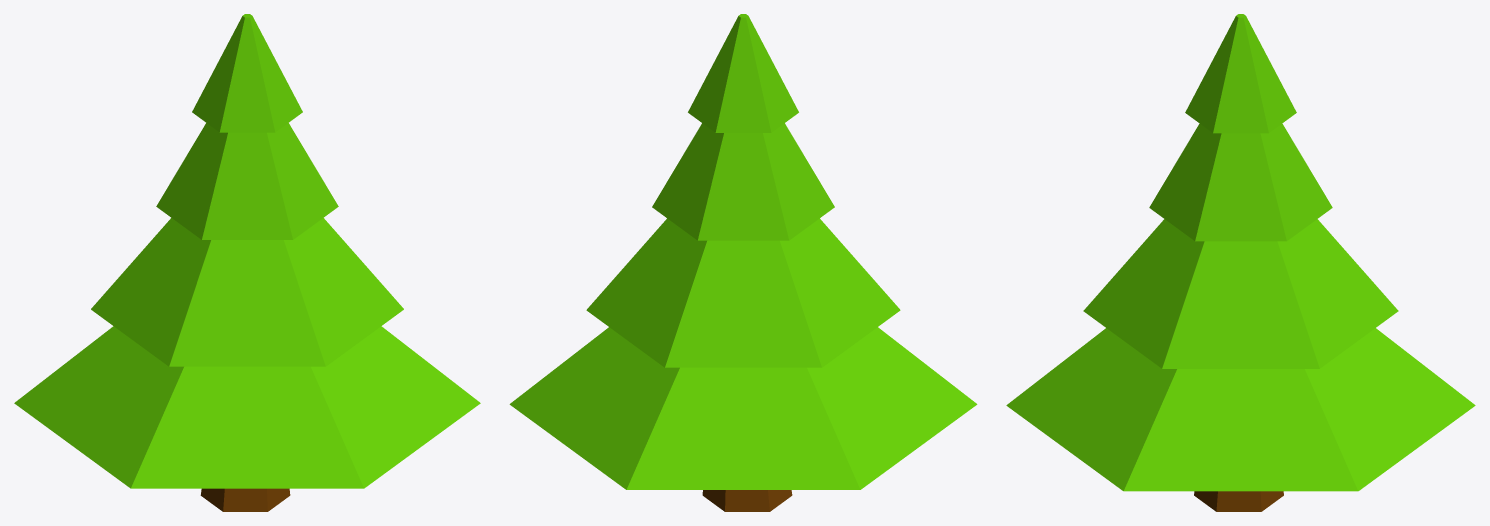
Rendered from Pinetree.fbx.
The picture shows the model from 3 angles, left to right: view 1: azimuth 30°, elevation 25°; view 2: azimuth 150°, elevation 25°; view 3: azimuth 270°, elevation 25°; orthographic projection.
Visible parts, largest first — view 1: Cylinder; view 2: Cylinder; view 3: Cylinder.
Boxes of the visible parts, x1,y1,x2,y2 form: Cylinder: [14, 14, 480, 511]; Cylinder: [509, 14, 977, 511]; Cylinder: [1006, 14, 1475, 511].
Size of the model in its own units: 295 by 385 by 341.
